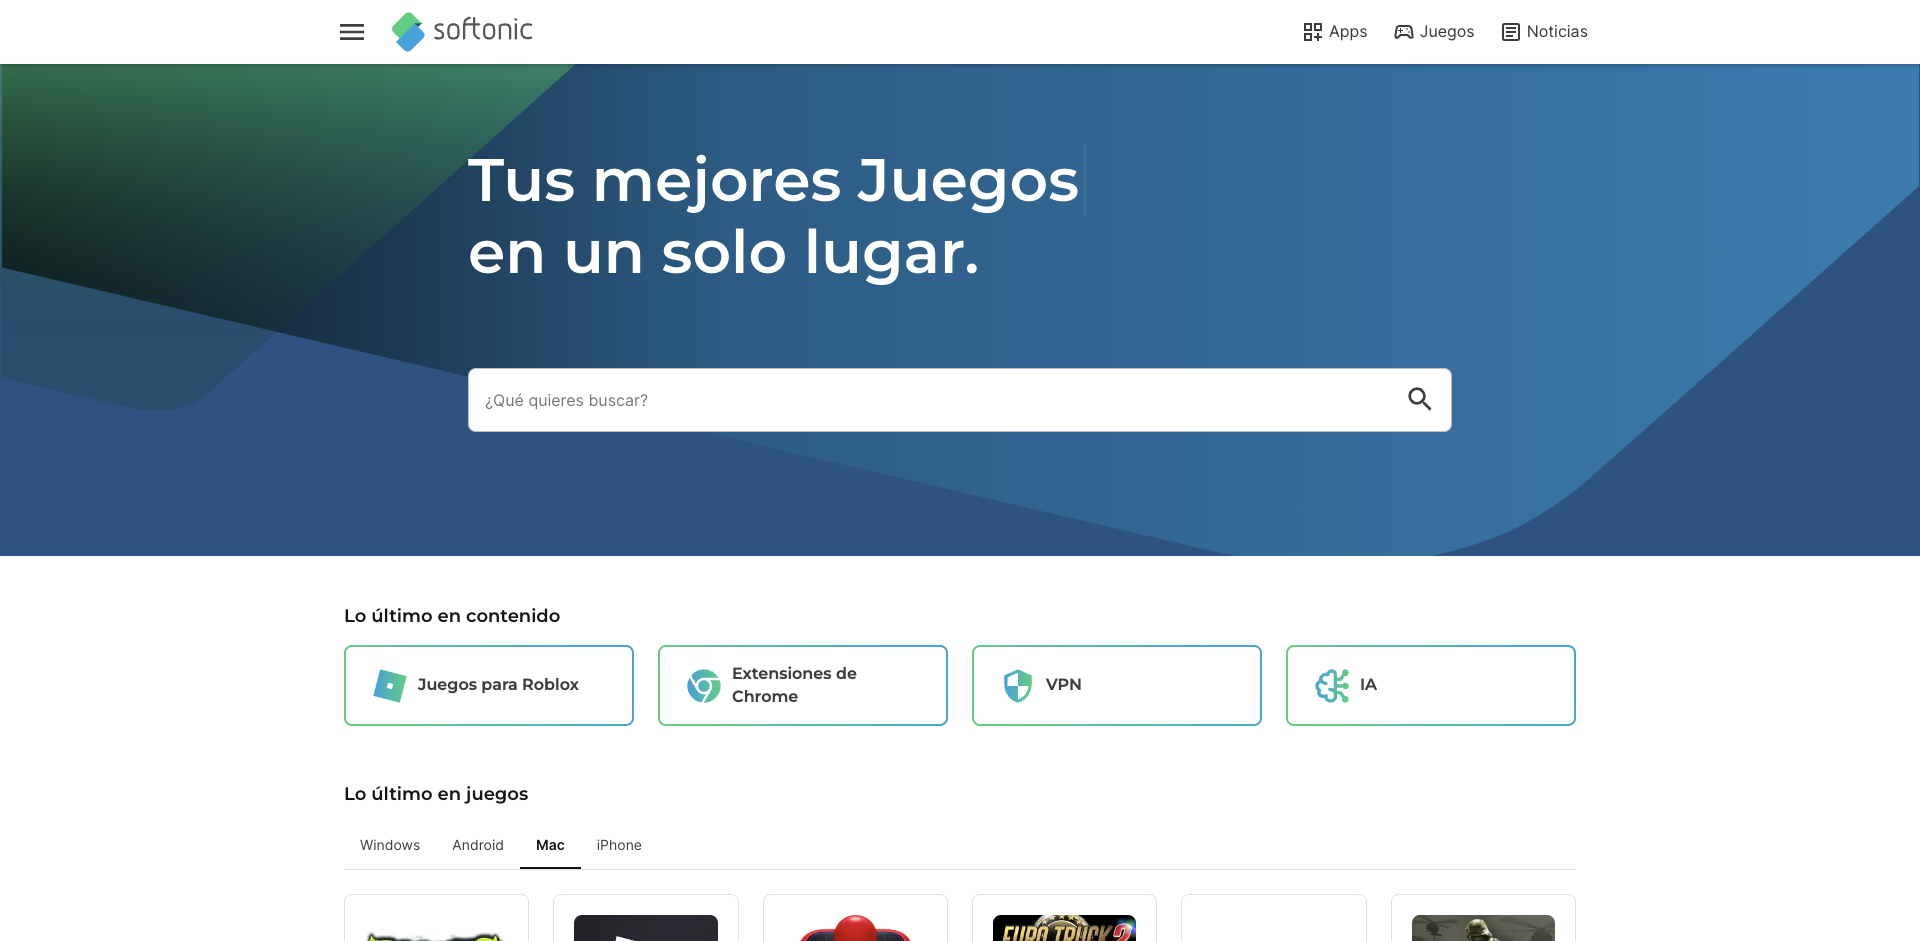button: (344, 823, 436, 869), (320, 0, 384, 64), (1389, 368, 1452, 433), (436, 823, 520, 869), (580, 823, 658, 869), (520, 823, 580, 869)
input: (468, 368, 1389, 433)
link: (344, 646, 634, 727), (658, 646, 948, 727), (972, 646, 1262, 727), (1286, 646, 1576, 727), (392, 0, 533, 64), (344, 894, 529, 941), (553, 894, 738, 941), (763, 894, 948, 941), (972, 894, 1157, 941), (1182, 894, 1367, 941), (1391, 894, 1576, 941), (1487, 0, 1600, 64), (1380, 0, 1487, 64), (1289, 0, 1380, 64)
